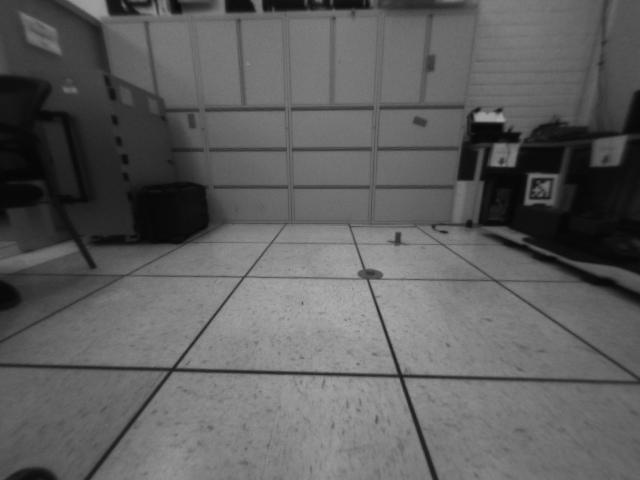X: (388, 231, 410, 246)
